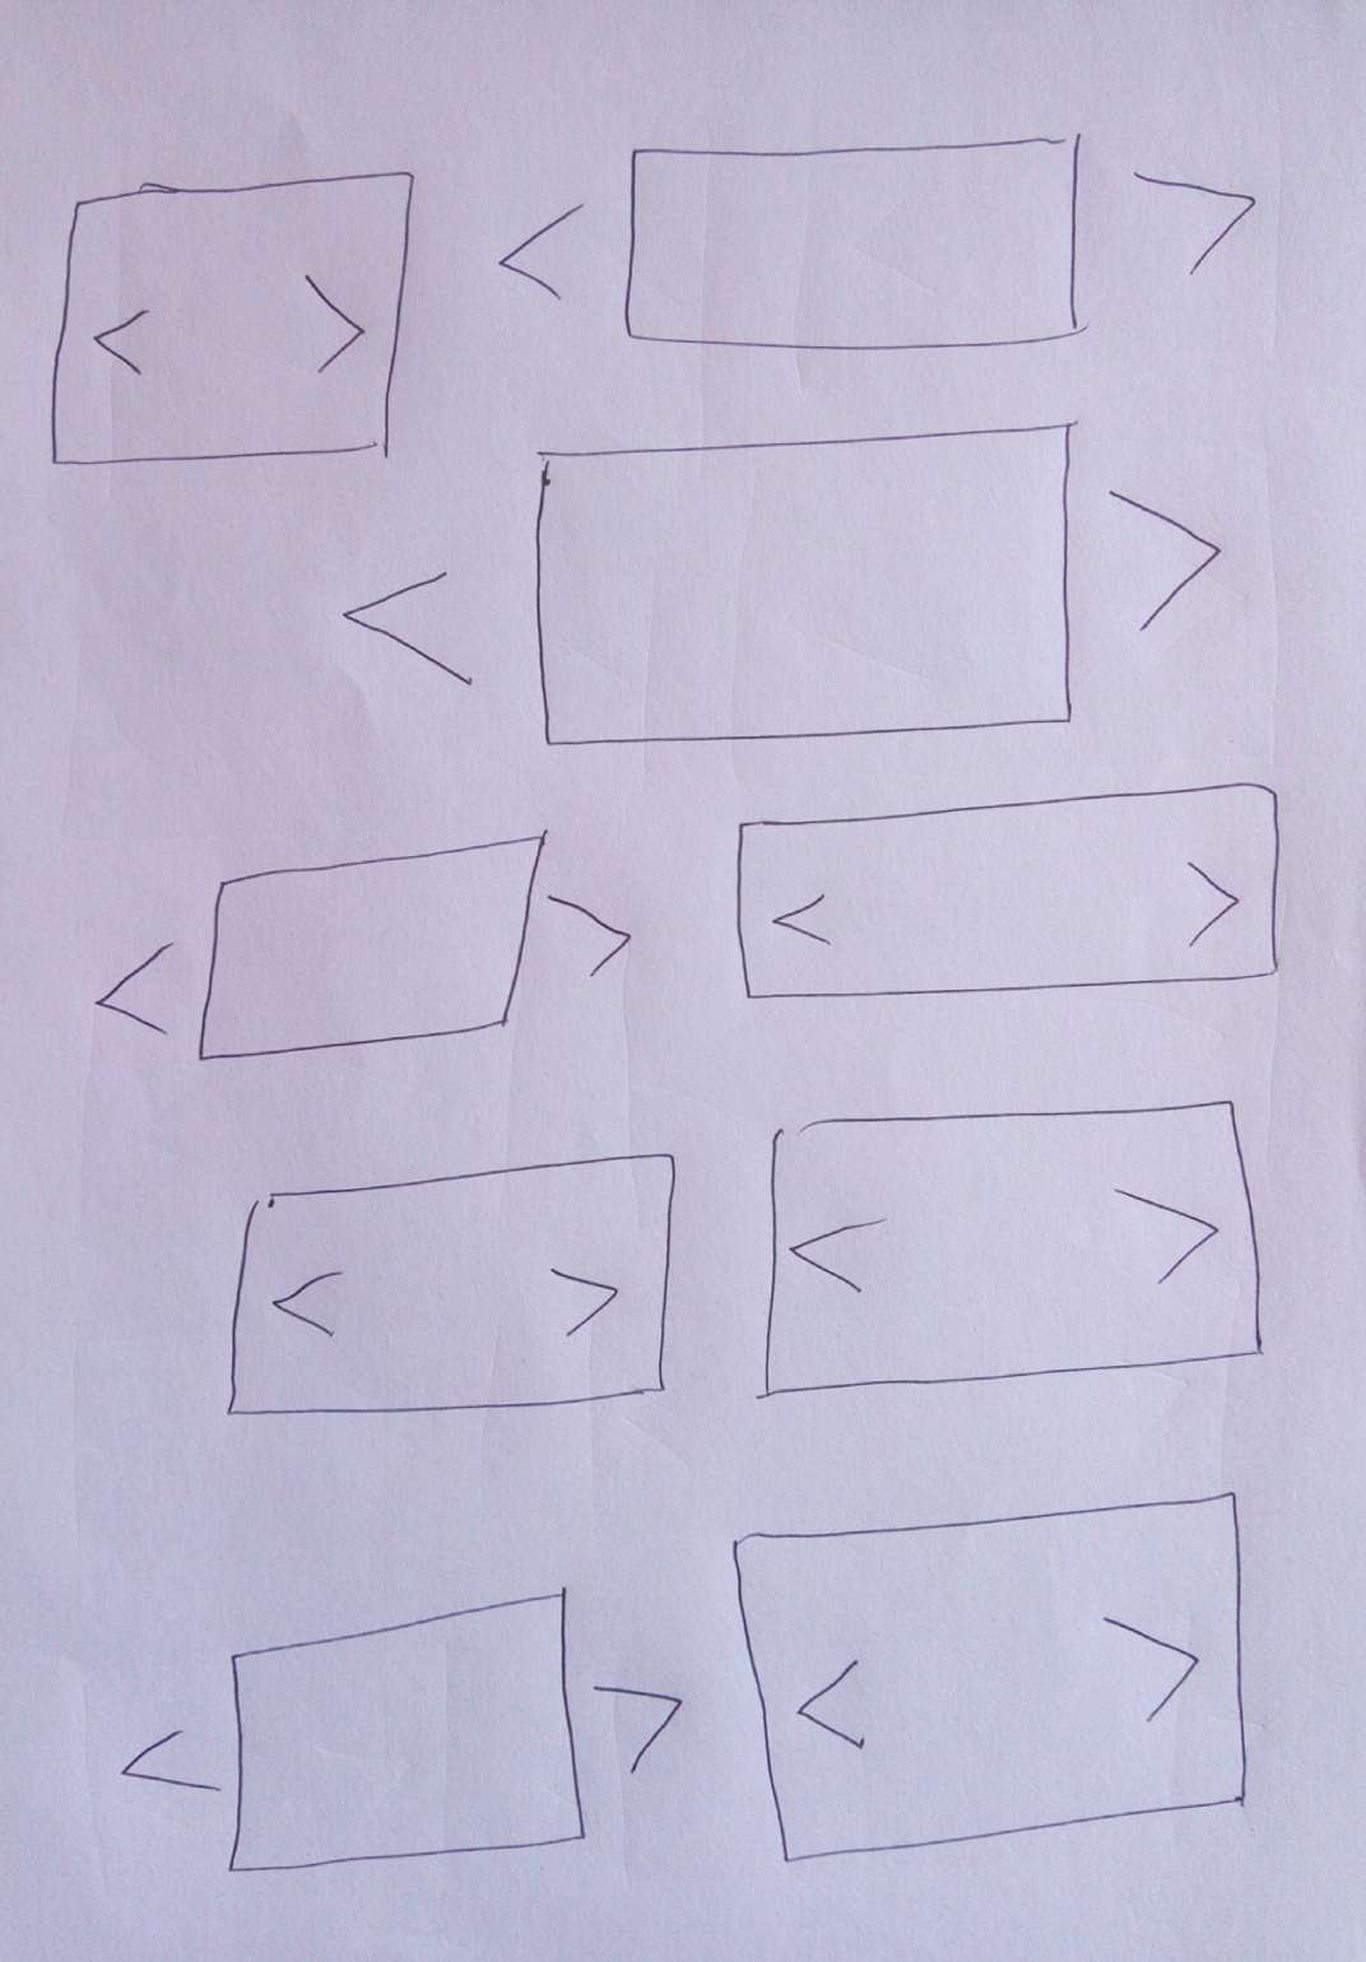Carousel: (364, 432, 1224, 753), (731, 1489, 1256, 1868), (485, 133, 1268, 359), (116, 1580, 692, 1880), (755, 1094, 1268, 1401), (88, 821, 637, 1067), (222, 1149, 682, 1428), (734, 780, 1288, 1009), (43, 168, 422, 468)
